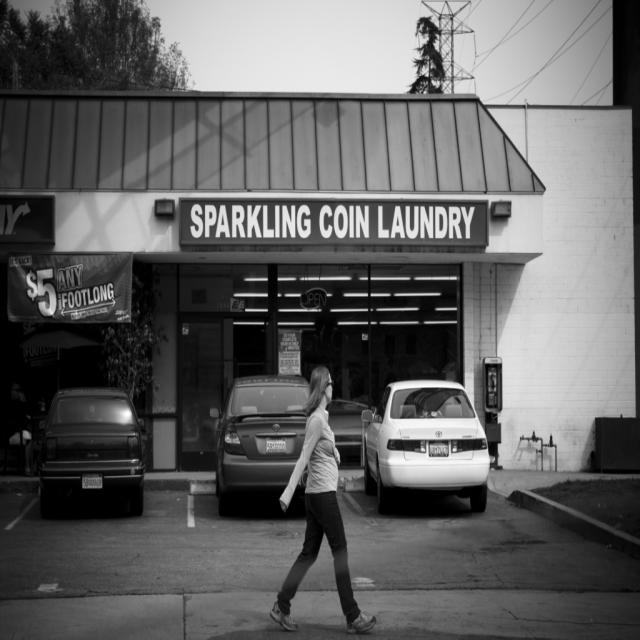car: (361, 377, 491, 510), (37, 386, 143, 515)
